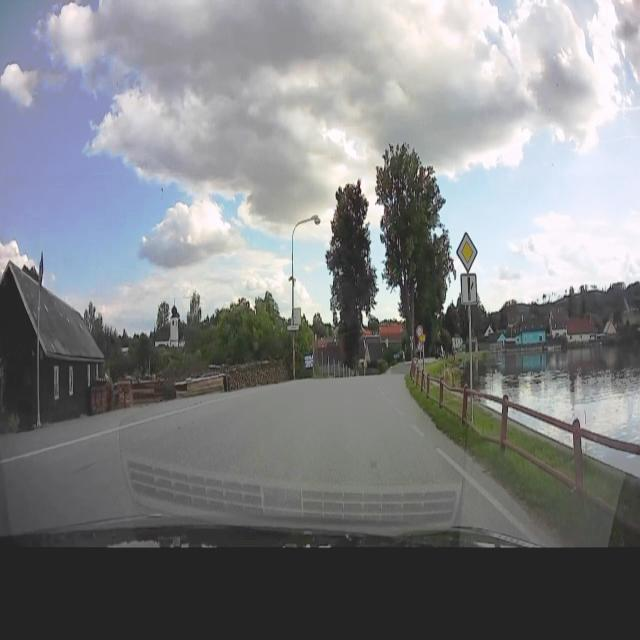Priority road: (456, 227, 478, 273)
